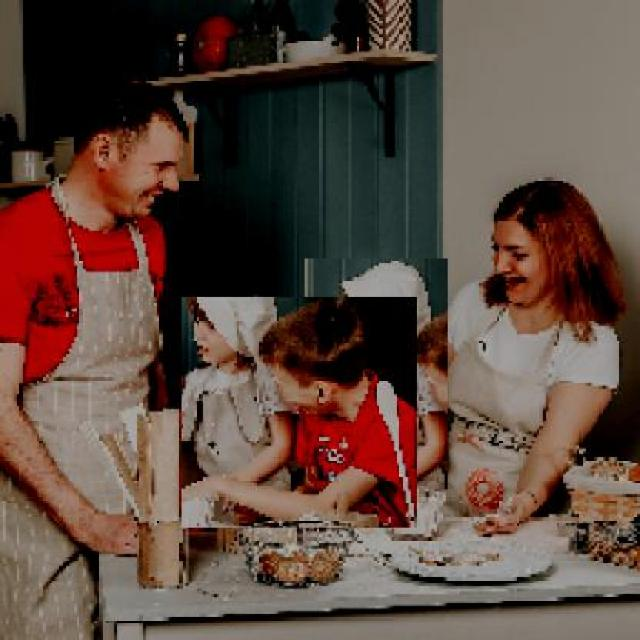child: (180, 297, 417, 529), (303, 258, 448, 491)
